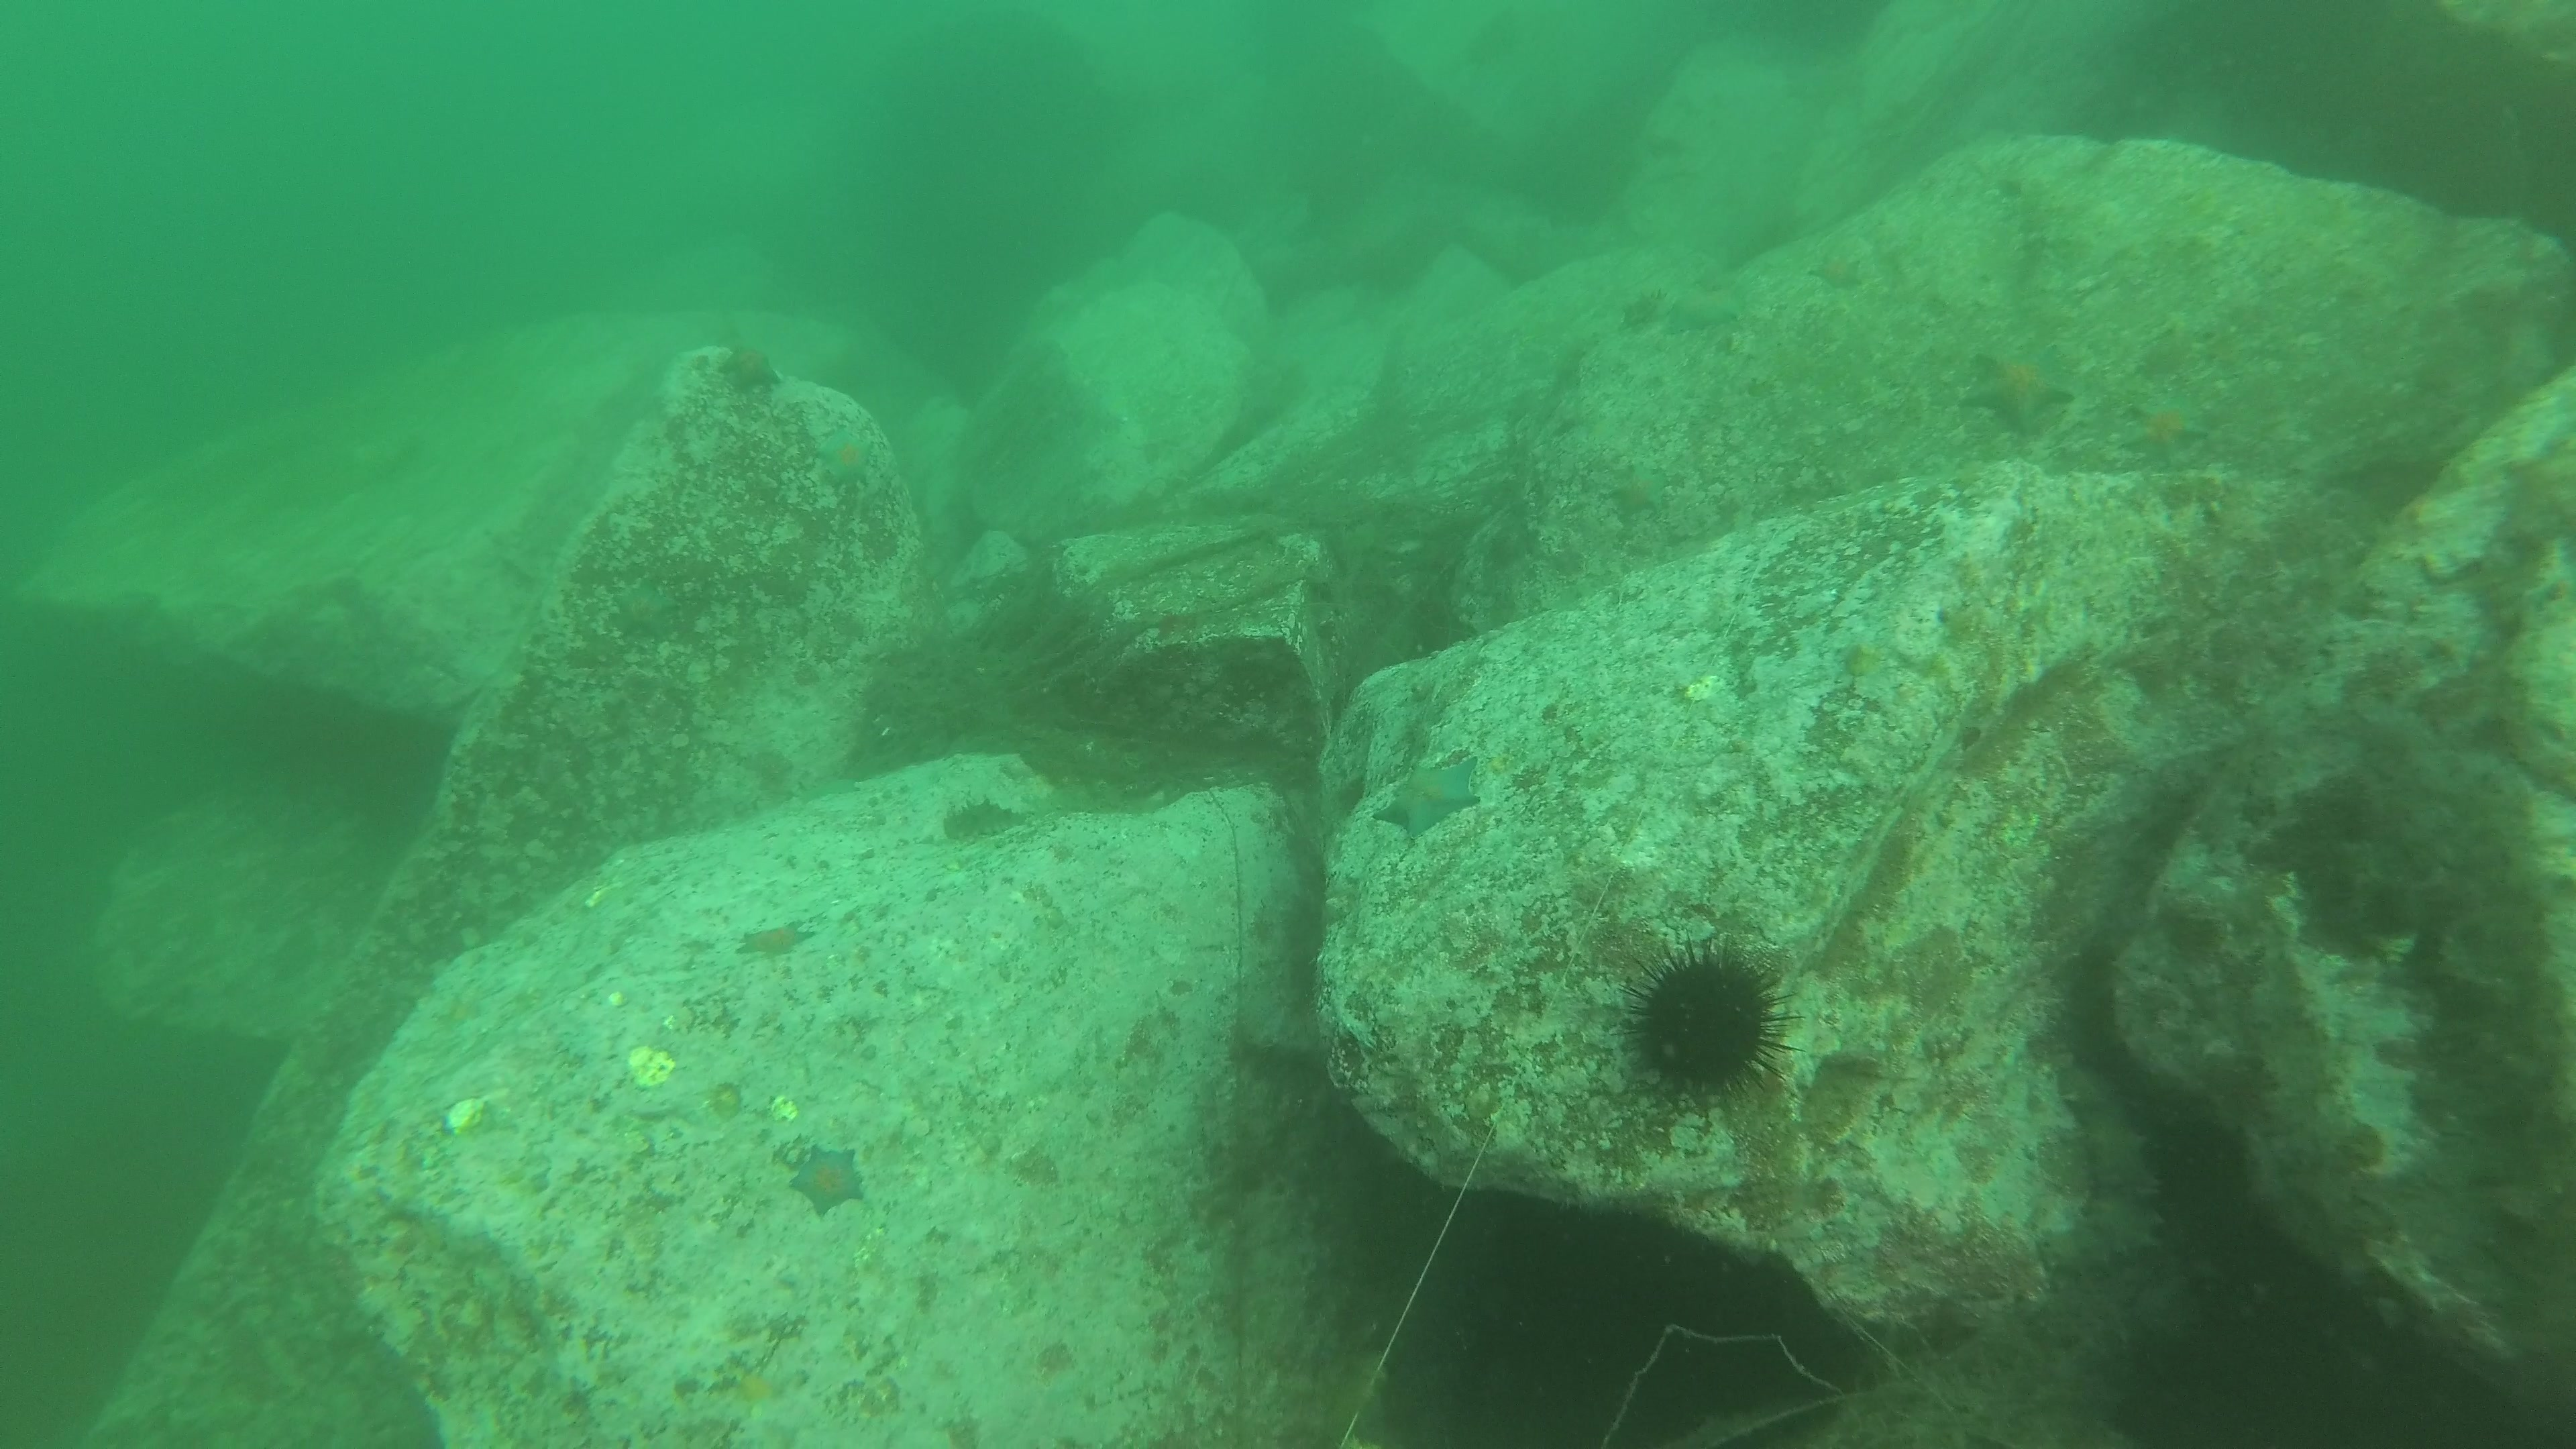echinus: (1606, 934, 1806, 1115)
holothurian: (938, 798, 1030, 842)
starfish: (1962, 347, 2075, 439), (1373, 757, 1483, 842), (2116, 391, 2215, 469), (784, 1143, 867, 1217), (1603, 460, 1672, 522), (814, 425, 878, 490), (1665, 292, 1748, 338), (720, 341, 786, 395), (740, 918, 819, 961), (1806, 253, 1868, 292)
